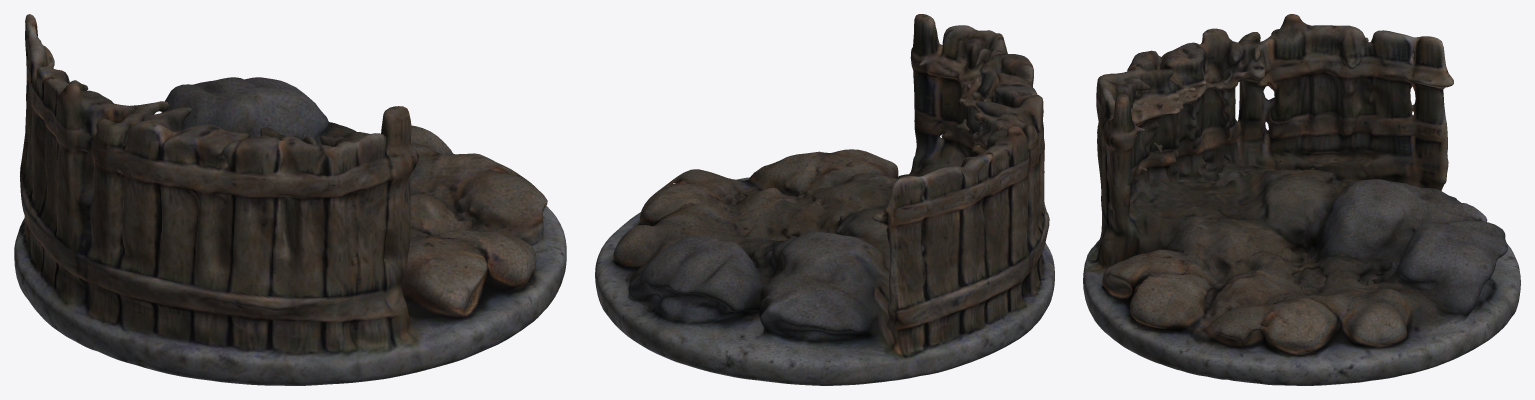
File: barricades.glb
3 views of the same model, side by side, from view 1: azimuth 30°, elevation 25°; view 2: azimuth 150°, elevation 25°; view 3: azimuth 270°, elevation 25° (orthographic). The views are drawn at different scales.
Parts seen in each view (by area): view 1: model; view 2: model; view 3: model.
Boxes of the visible parts, x1,y1,x2,y2 form: model: (14,14,566,385); model: (595,14,1054,385); model: (1083,14,1520,385).
Size of the model in its own units: 1.72 by 0.8574 by 1.72.
Materials: 1 (1 with a texture image).
